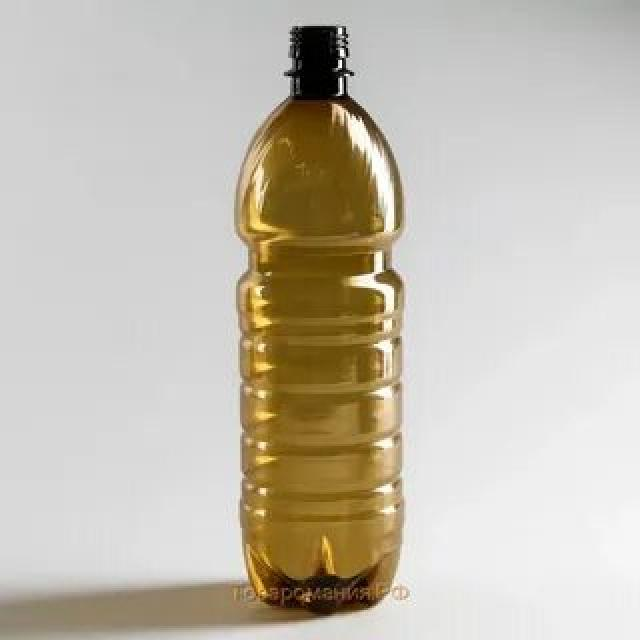brown: (234, 25, 404, 617)
